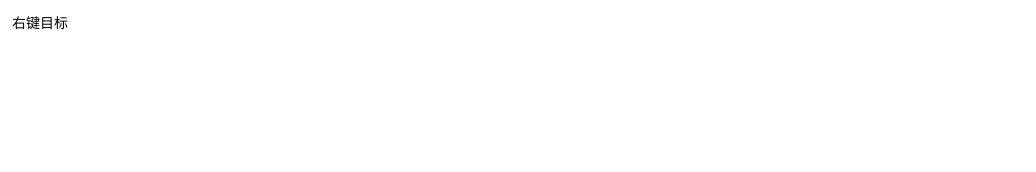
Test: ContextMenu › 点击菜单项执行 onSelect 并关闭菜单
The image size is (1036, 172).
Right-click the text with test id "trigger" at (40, 22), box x1=12 y1=13 x2=68 y2=32
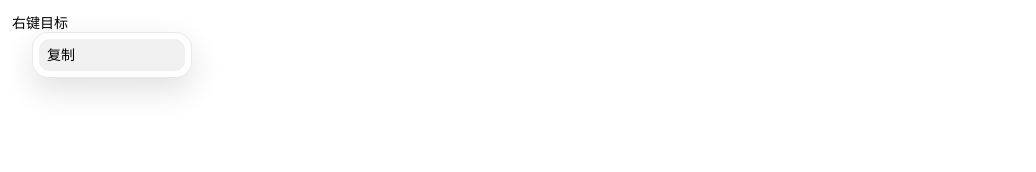
Click the menu item "复制" at (112, 55), box x1=39 y1=39 x2=185 y2=71
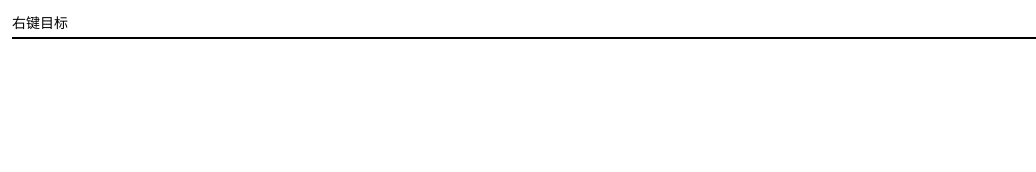
Now the menu is gone
